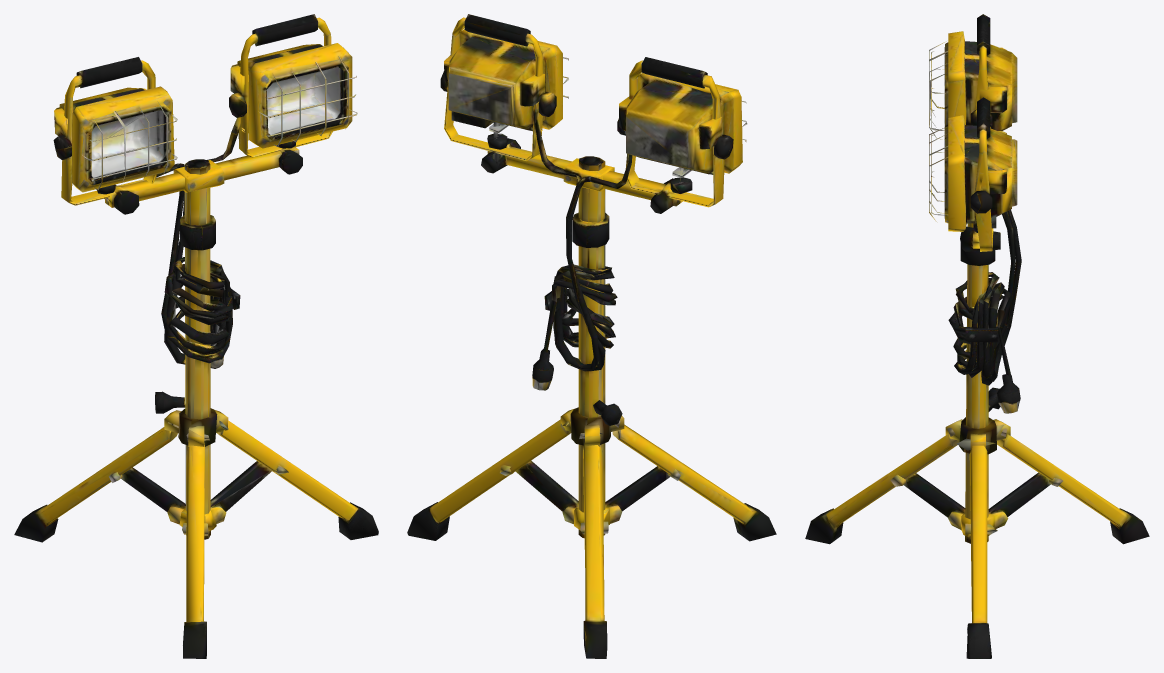
File: tripod_work_lamp.glb
3 renders of one model, left to right at view 1: azimuth 30°, elevation 25°; view 2: azimuth 150°, elevation 25°; view 3: azimuth 270°, elevation 25°, orthographic. The views are drawn at different scales.
Visible parts, largest first — view 1: Meshy_AI_tripod_work_lamp_3d_20261028_texture; view 2: Meshy_AI_tripod_work_lamp_3d_20261028_texture; view 3: Meshy_AI_tripod_work_lamp_3d_20261028_texture.
Boxes of the visible parts, box(x1,y1,x2,y2) form: Meshy_AI_tripod_work_lamp_3d_20261028_texture: box(14, 14, 378, 658); Meshy_AI_tripod_work_lamp_3d_20261028_texture: box(407, 14, 776, 658); Meshy_AI_tripod_work_lamp_3d_20261028_texture: box(805, 14, 1149, 658).
Bounding box in the file's own units: 1.13 × 1.8 × 1.1.
Materials: 1 (1 with a texture image).
